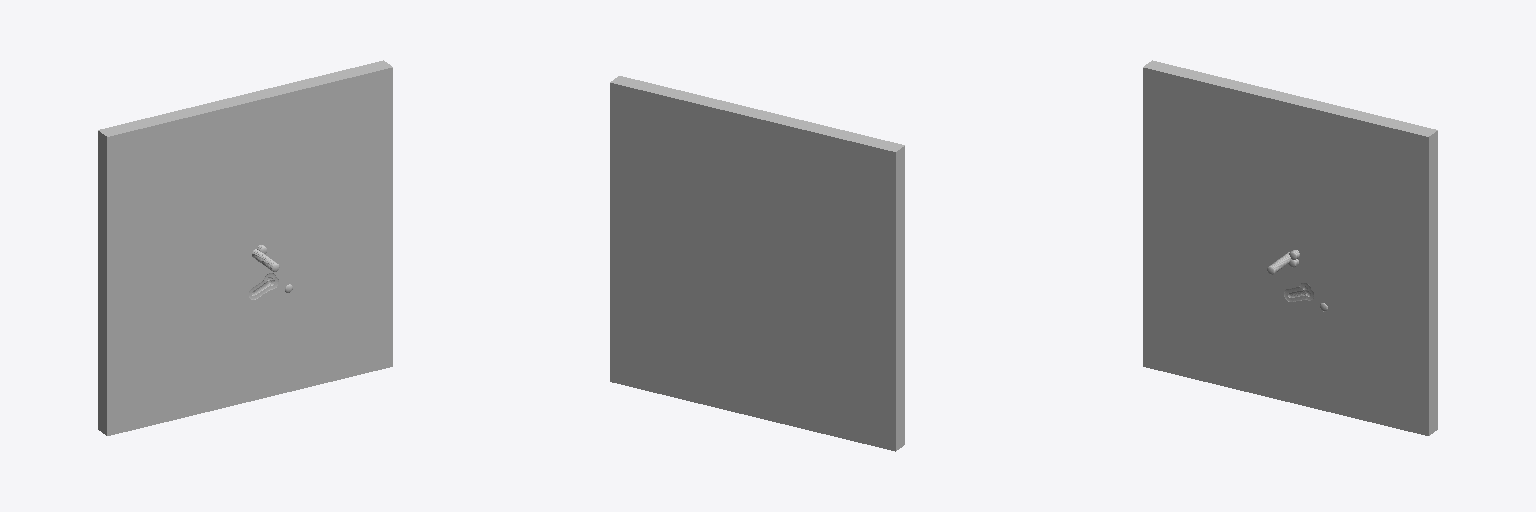
Rendered from Gobhopper.obj.
3 views of the same model, side by side, from view 1: azimuth 30°, elevation 25°; view 2: azimuth 150°, elevation 25°; view 3: azimuth 330°, elevation 25° (orthographic).
Visible parts, largest first — view 1: Body.001_Cube.001; view 2: Body.001_Cube.001; view 3: Body.001_Cube.001.
Part boxes in pixels (bbox=[...]): Body.001_Cube.001: bbox=[98, 60, 392, 435]; Body.001_Cube.001: bbox=[610, 76, 904, 451]; Body.001_Cube.001: bbox=[1143, 60, 1437, 435].
Size of the model in its own units: 9100 by 9100 by 1669.